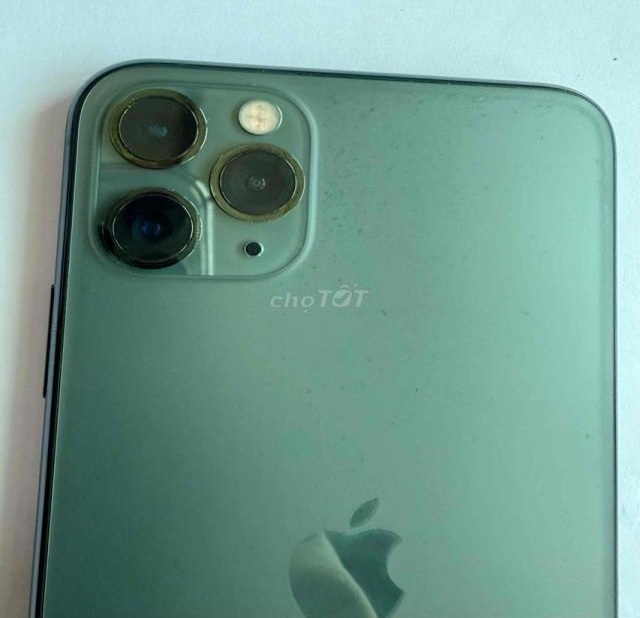scratch: (301, 72, 611, 233), (94, 71, 294, 268), (374, 284, 399, 335), (334, 367, 364, 403), (578, 418, 601, 448), (410, 379, 427, 402)
